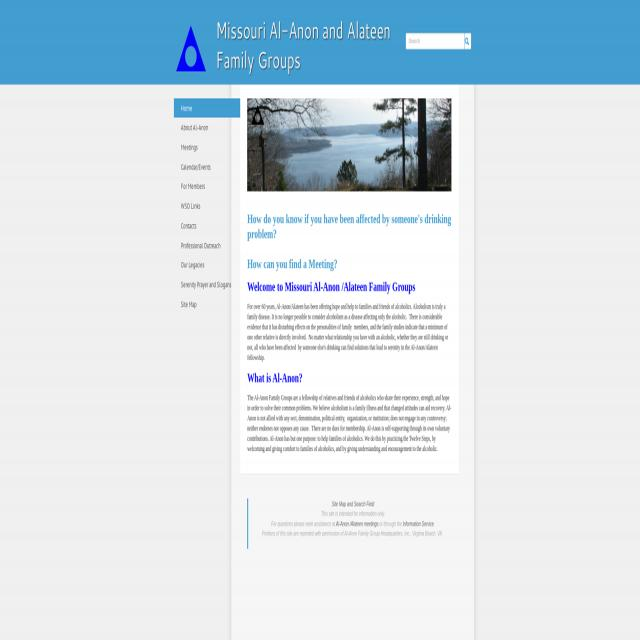button: (176, 13, 398, 77), (174, 98, 240, 118), (464, 34, 471, 50)
field: (406, 32, 464, 49)
